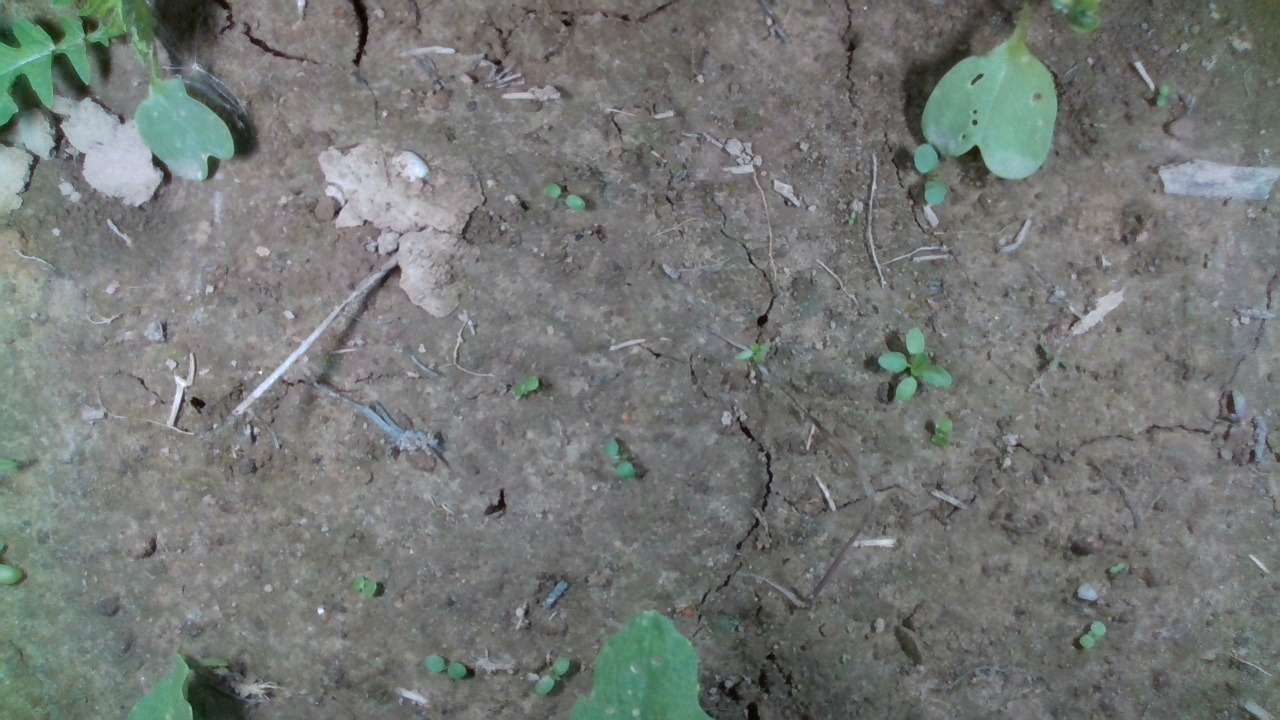weed: (538, 180, 590, 212)
